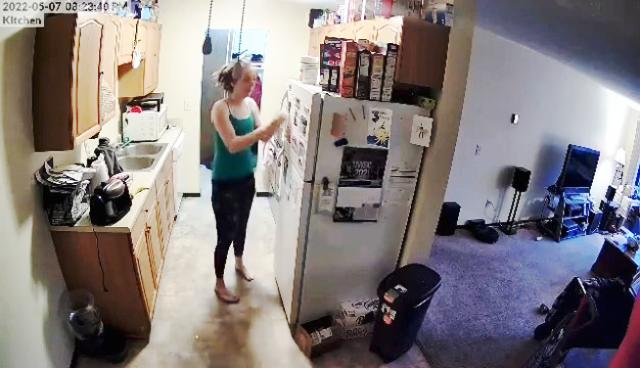berdiri: (208, 60, 278, 304)
